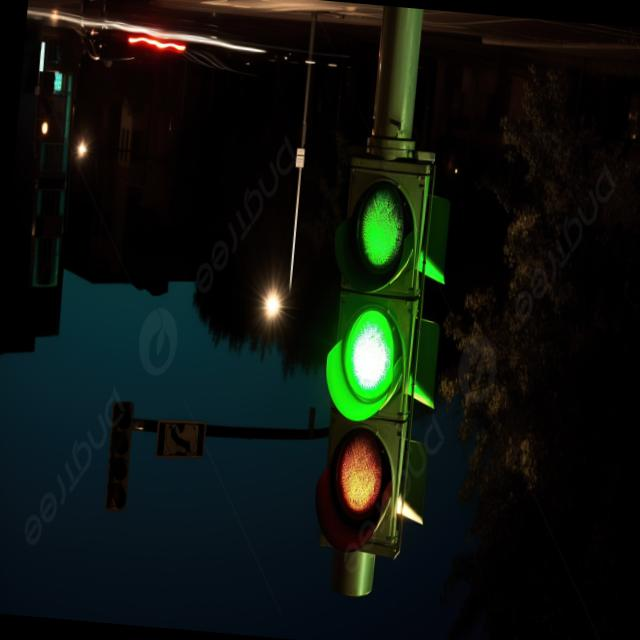green-lights: (339, 306, 399, 402)
yellow-lights: (335, 432, 384, 512)
